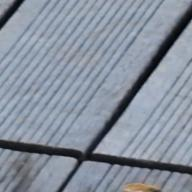Bee: (120, 179, 174, 192)
